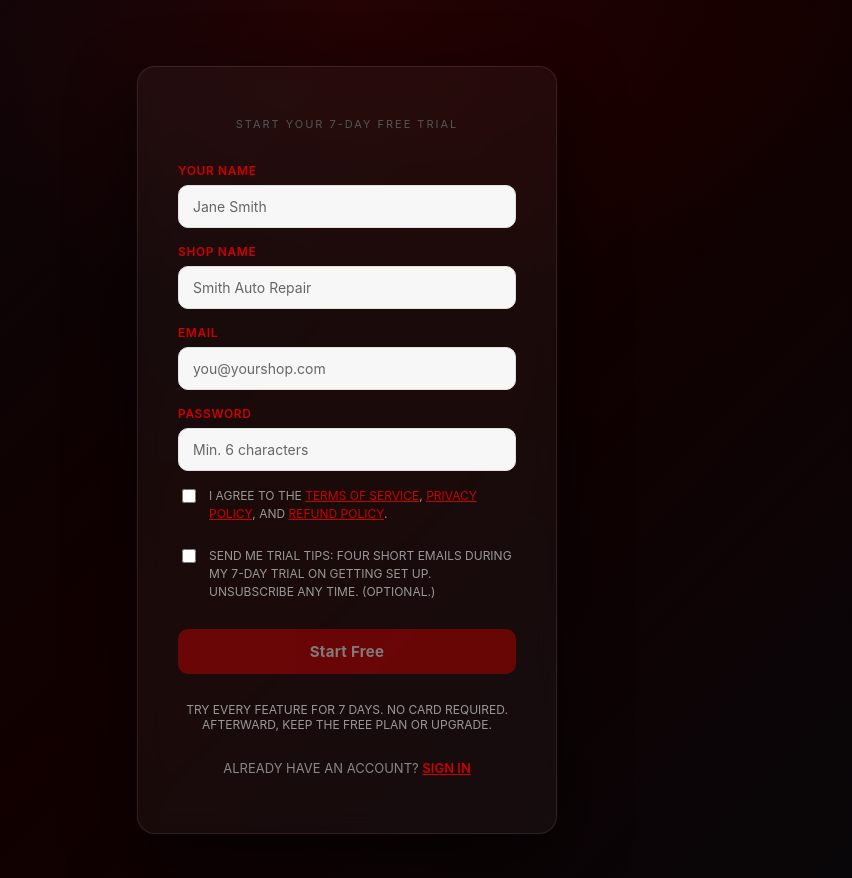
signup conversion › does not count a rejected signup
Type "Private Name" into the field labelled "Your Name" at x=347, y=206, box [178,185,516,228]
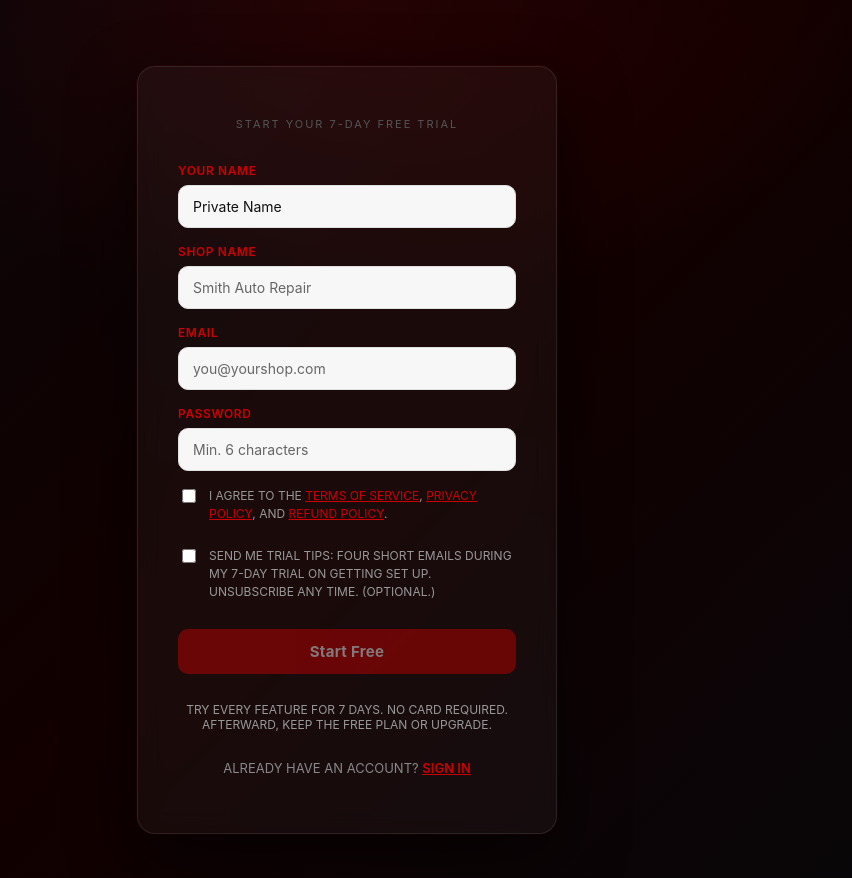
Type "Private Shop" into the field labelled "Shop Name" at x=347, y=288, box [178,266,516,309]
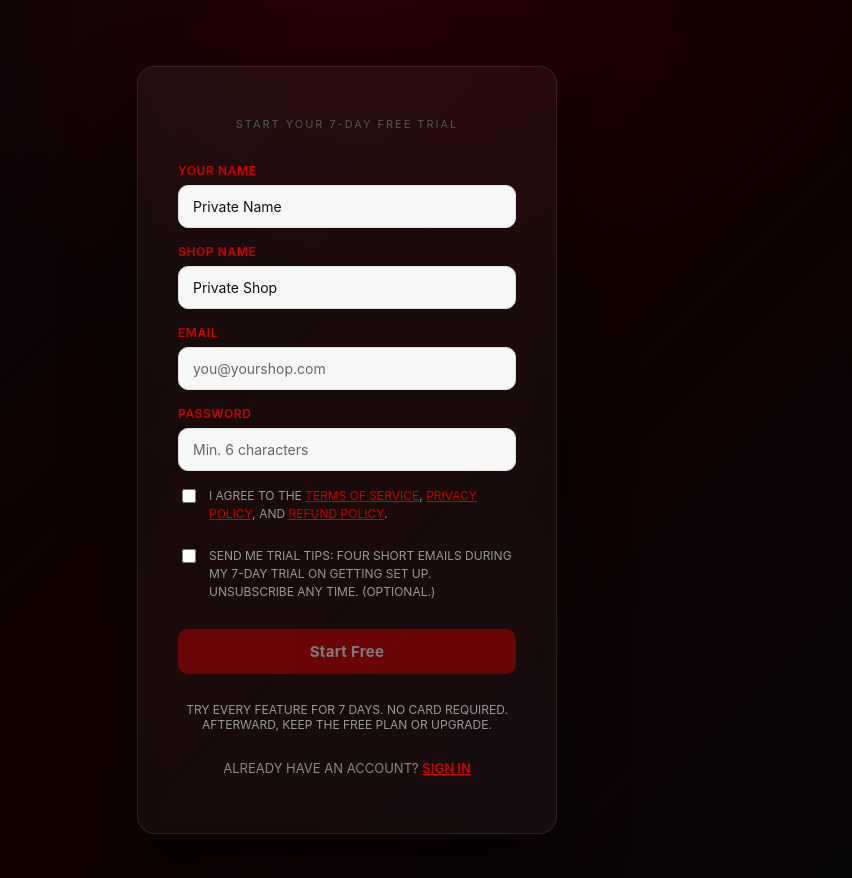
Type "private@example.com" into the field labelled "Email" at x=347, y=368, box [178,347,516,390]
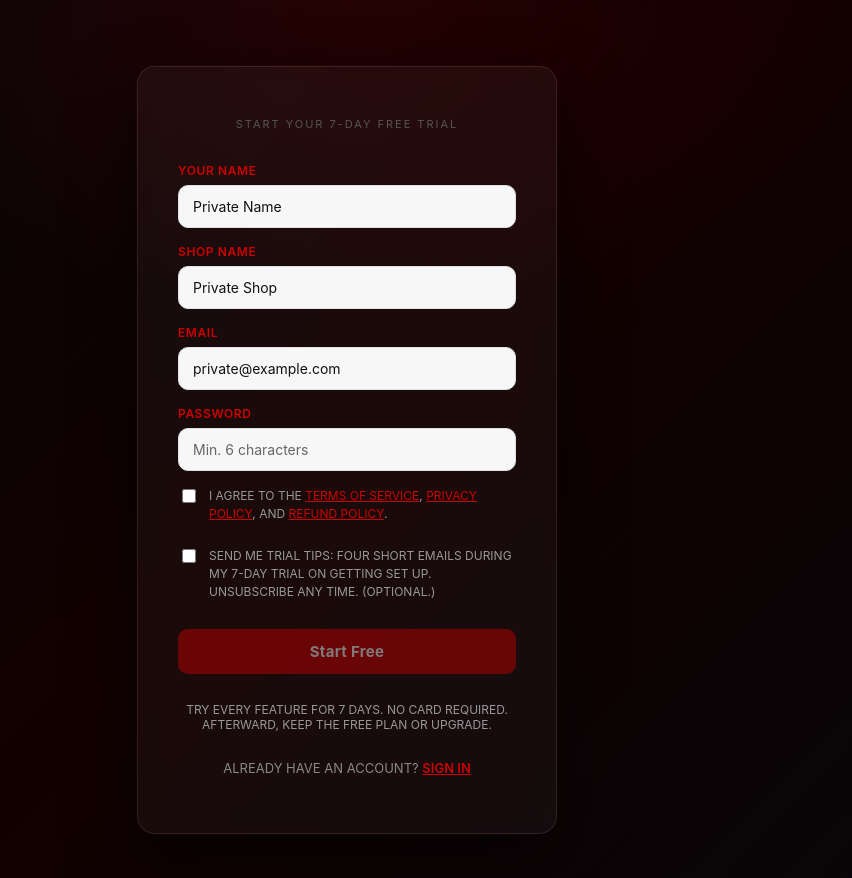
Type "test-only-password" into the password field labelled "Password" at x=347, y=450, box [178,428,516,471]
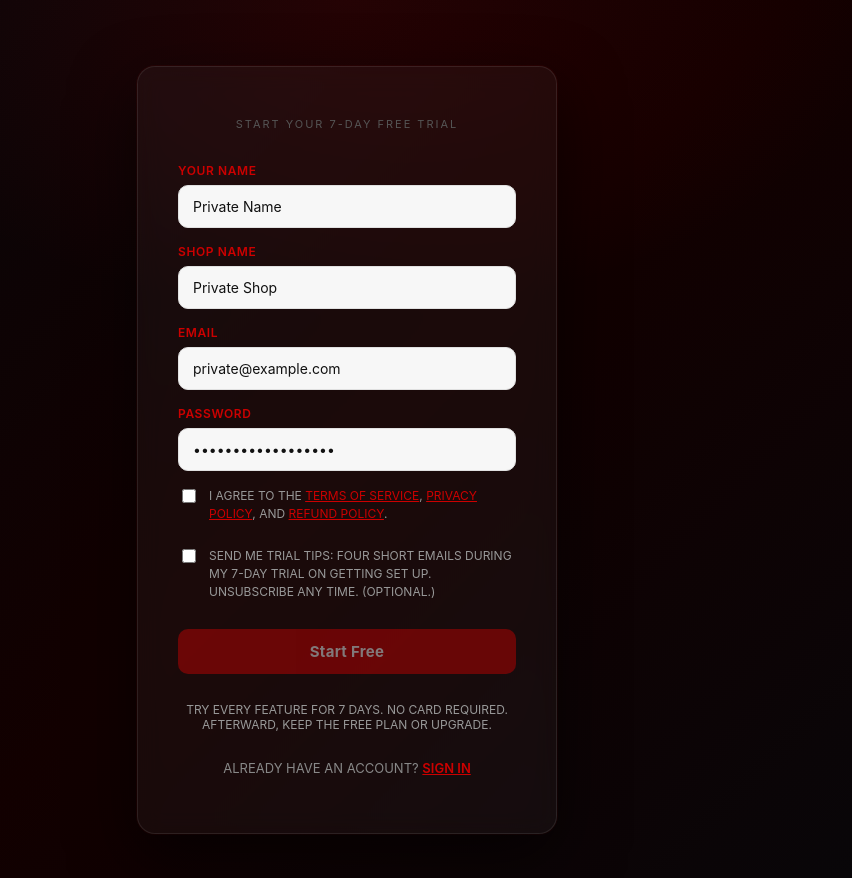
Click the checkbox labelled "I agree to the" at x=189, y=496, box [182,489,196,503]
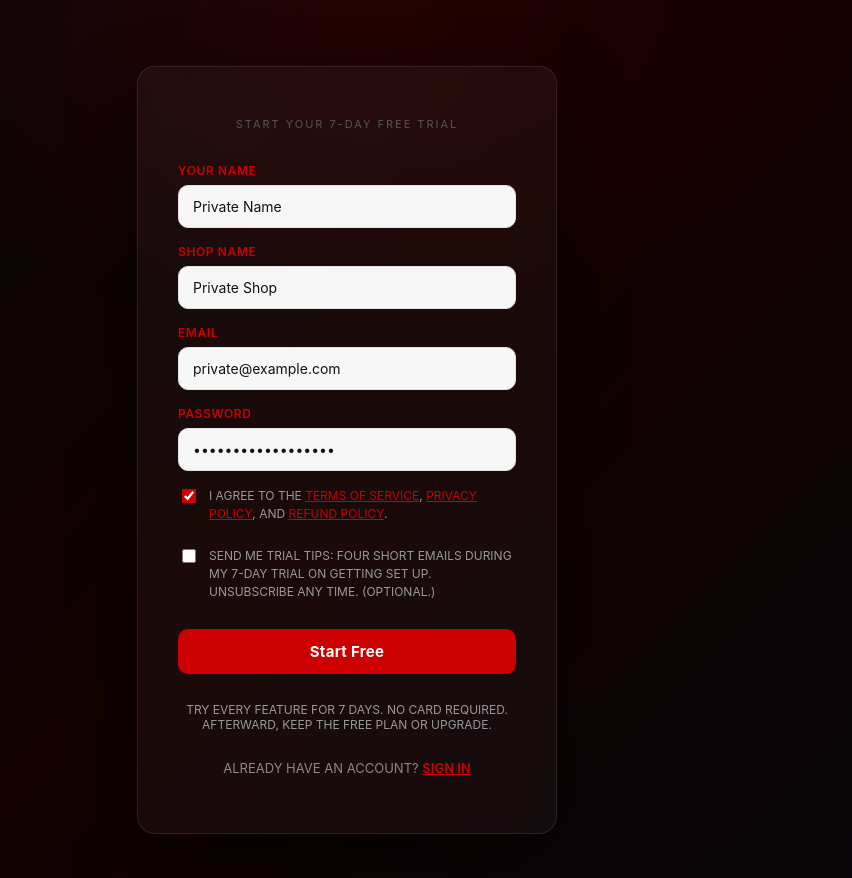
Submit the form, box [178,163,516,744]
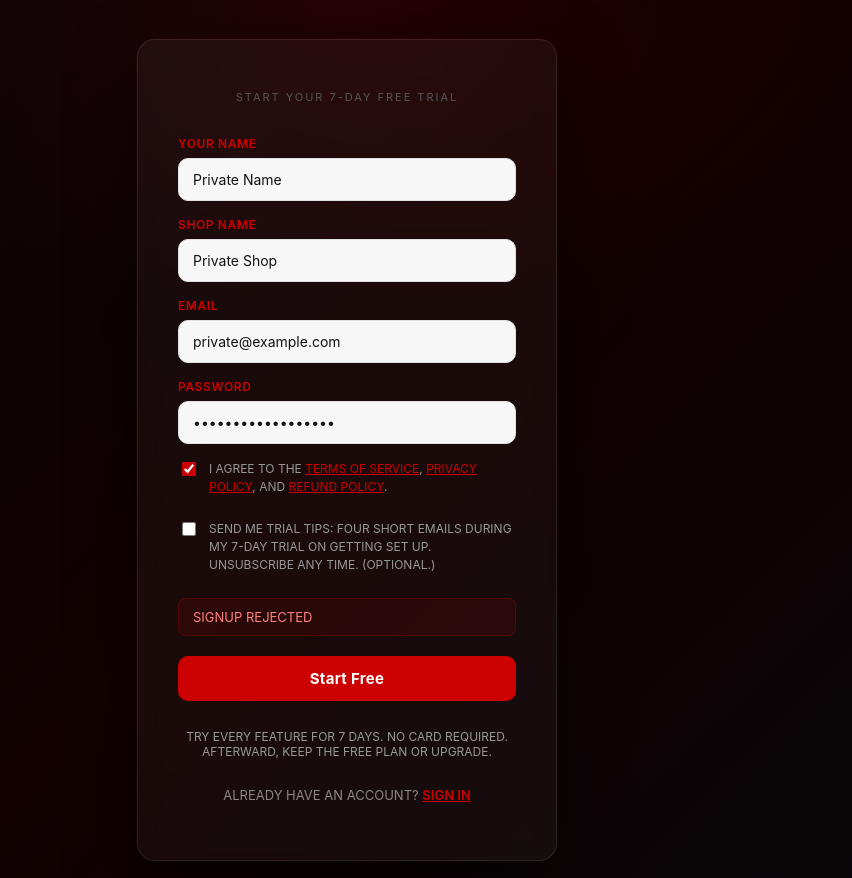
Check: the text "Signup rejected" is shown, box [178,598,516,636]
